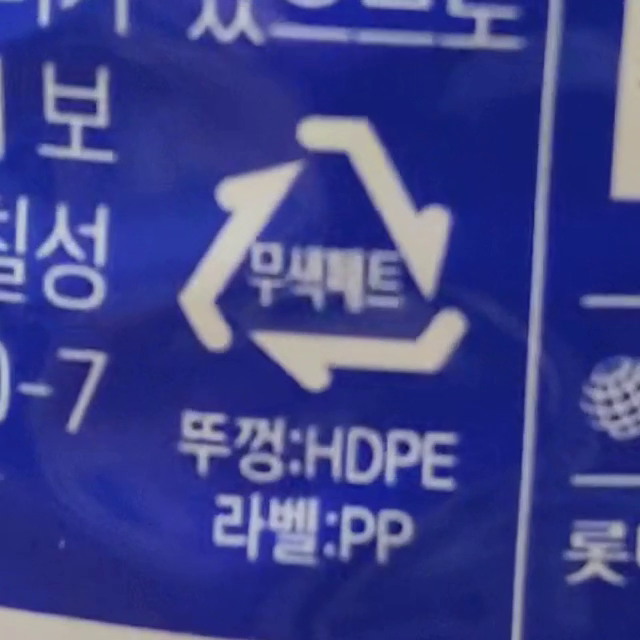ColorlessPet: (179, 114, 465, 389)
